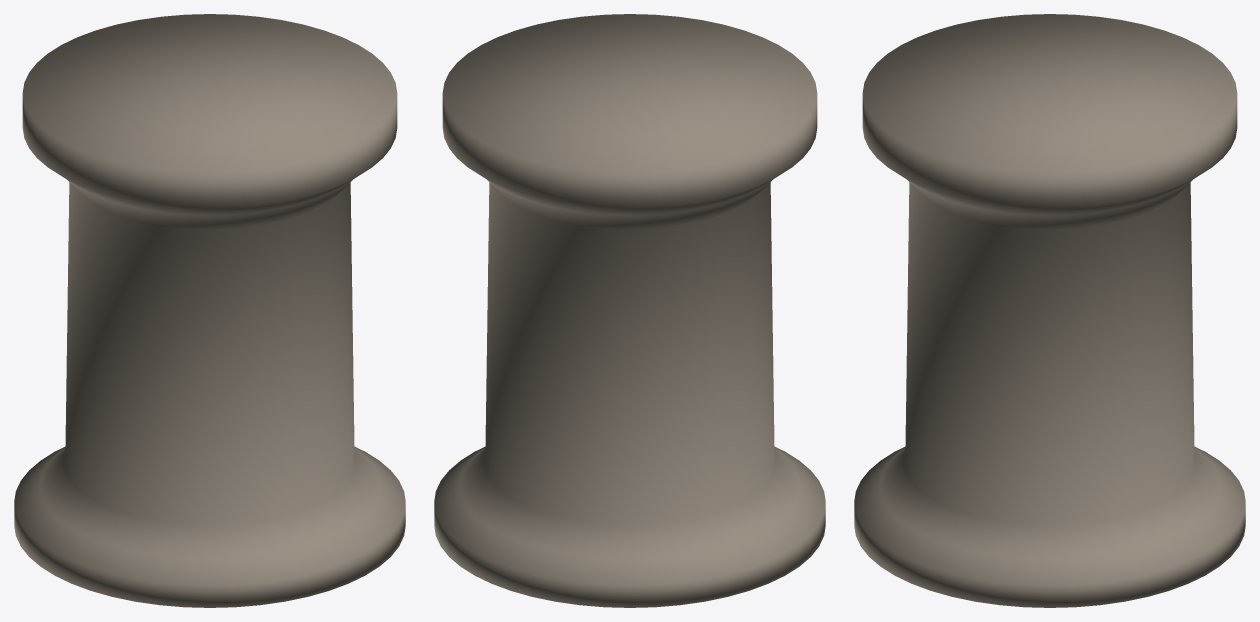
File: pedestal.glb
3 renders of one model, left to right at view 1: azimuth 30°, elevation 25°; view 2: azimuth 150°, elevation 25°; view 3: azimuth 270°, elevation 25°, orthographic.
Visible parts, largest first — view 1: Pedestal; view 2: Pedestal; view 3: Pedestal.
Part boxes in pixels (left/top/right/bottom): Pedestal: left=14, top=14, right=405, bottom=607; Pedestal: left=434, top=14, right=825, bottom=607; Pedestal: left=854, top=14, right=1245, bottom=607.
Bounding box in the file's own units: 0.92 × 1.12 × 0.92.
